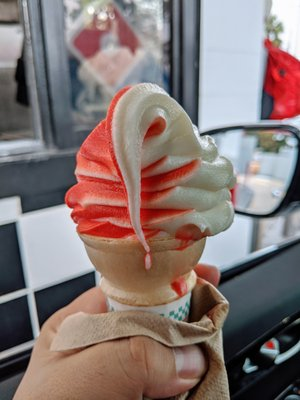pizza: (17, 54, 238, 400)
